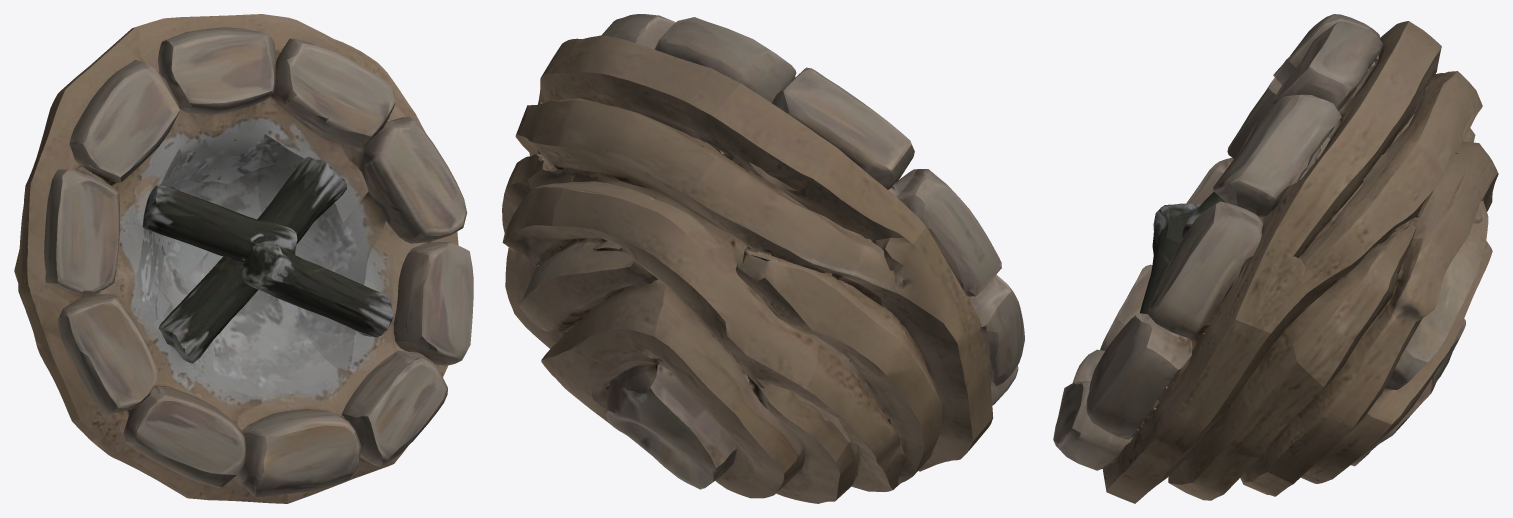
Rendered from campfire_remains.glb.
3 views of the same model, side by side, from view 1: azimuth 30°, elevation 25°; view 2: azimuth 150°, elevation 25°; view 3: azimuth 270°, elevation 25° (orthographic). The views are drawn at different scales.
Parts seen in each view (by area): view 1: geometry_0; view 2: geometry_0; view 3: geometry_0.
Part boxes in pixels (<box>): geometry_0: <box>14,14,473,503</box>; geometry_0: <box>502,14,1024,503</box>; geometry_0: <box>1053,14,1498,503</box>.
Bounding box in the file's own units: 0.9 × 0.8918 × 0.8054.
Materials: 1 (1 with a texture image).
